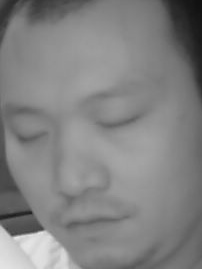blink: (97, 114, 141, 133), (14, 127, 49, 146)
mouth: (58, 201, 126, 239)
